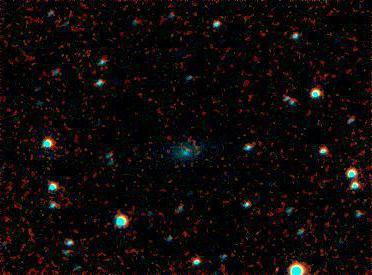star: (265, 253, 295, 275)
